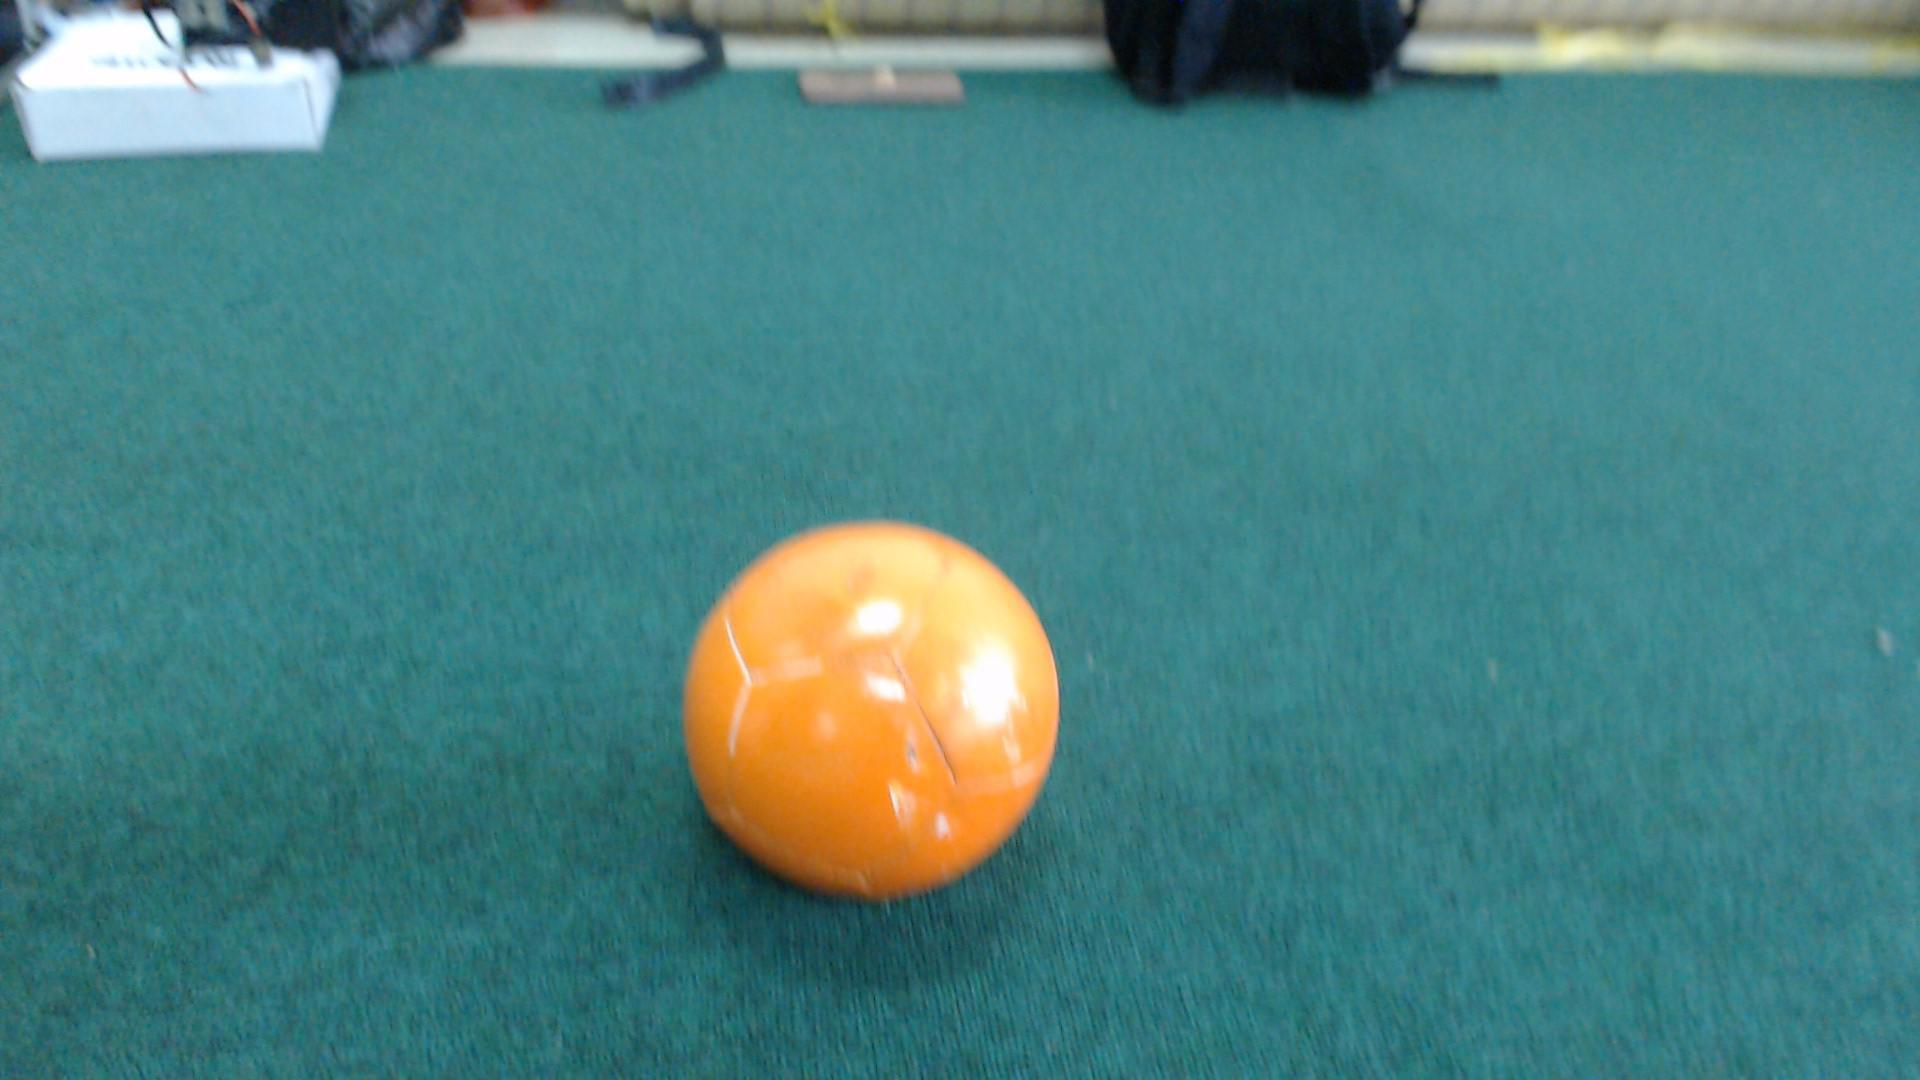bola: (658, 469, 1063, 915)
